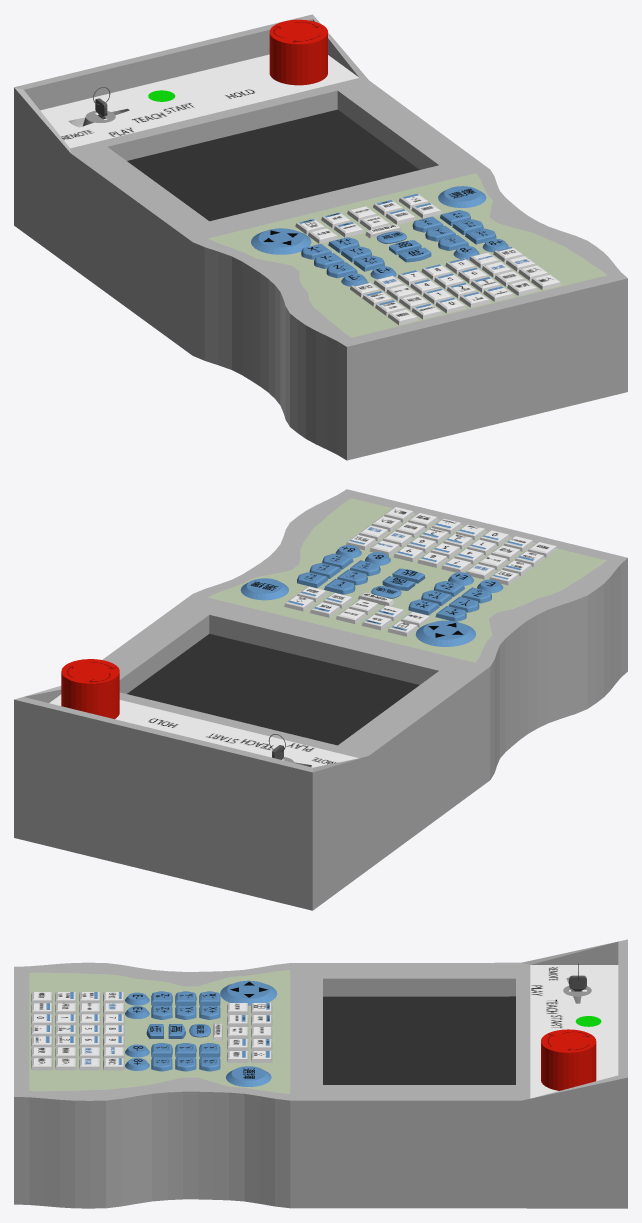
File: 教導盒.fbx
3 renders of one model, top to bottom at view 1: azimuth 30°, elevation 25°; view 2: azimuth 150°, elevation 25°; view 3: azimuth 270°, elevation 25°, orthographic. The views are drawn at different scales.
Visible parts, largest first — view 1: 機體, 急停鈕, 方向鍵, 選擇; view 2: 機體, 急停鈕, 方向鍵, 選擇; view 3: 機體, 急停鈕, 方向鍵, 選擇.
Boxes of the visible parts, <box> form: 機體: <box>14,14,627,460</box>; 急停鈕: <box>269,19,327,85</box>; 方向鍵: <box>251,228,311,254</box>; 選擇: <box>438,186,486,207</box>; 機體: <box>14,489,627,910</box>; 急停鈕: <box>61,659,119,719</box>; 方向鍵: <box>415,620,475,646</box>; 選擇: <box>240,578,288,600</box>; 機體: <box>14,939,627,1208</box>; 急停鈕: <box>541,1029,596,1090</box>; 方向鍵: <box>220,980,277,1005</box>; 選擇: <box>226,1066,271,1086</box>.
Size of the model in its own units: 1650 by 880 by 3100.
Materials: 75 (61 with a texture image).
